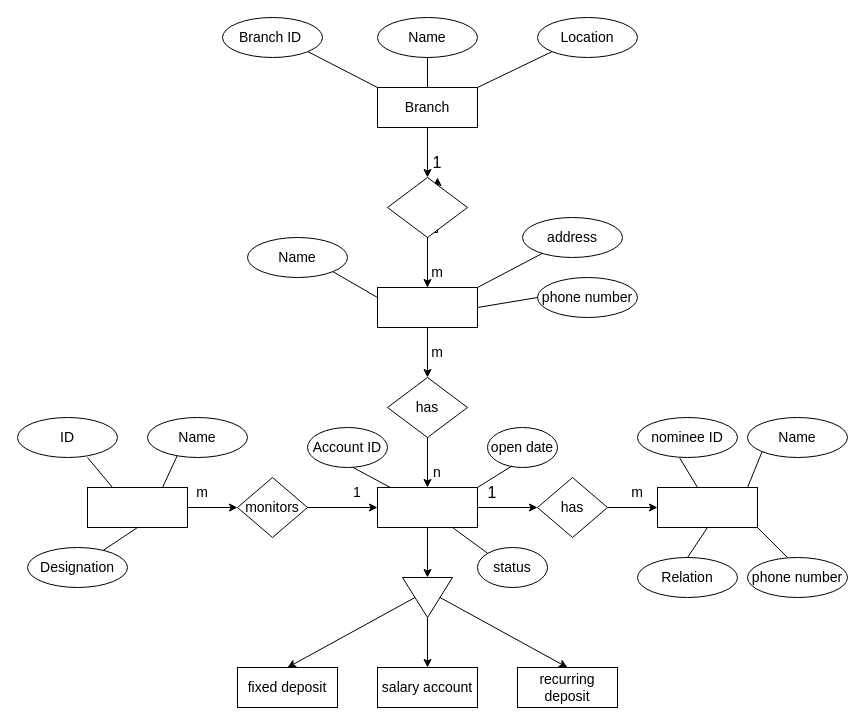
The diagram is 865 pixels wide and 725 high, and some of its shapes have lost their labels. The shapes that lost their labels are listed below. From the top down, each one's box as (x1, y1, x2, y2) in pixels, then its label:
(386, 176, 468, 238): have
(376, 286, 478, 328): customers
(86, 486, 188, 528): employee
(376, 486, 478, 528): Account
(656, 486, 758, 528): nominees
(402, 576, 452, 618): is a
